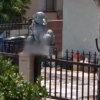Statue: (19, 7, 64, 63)
